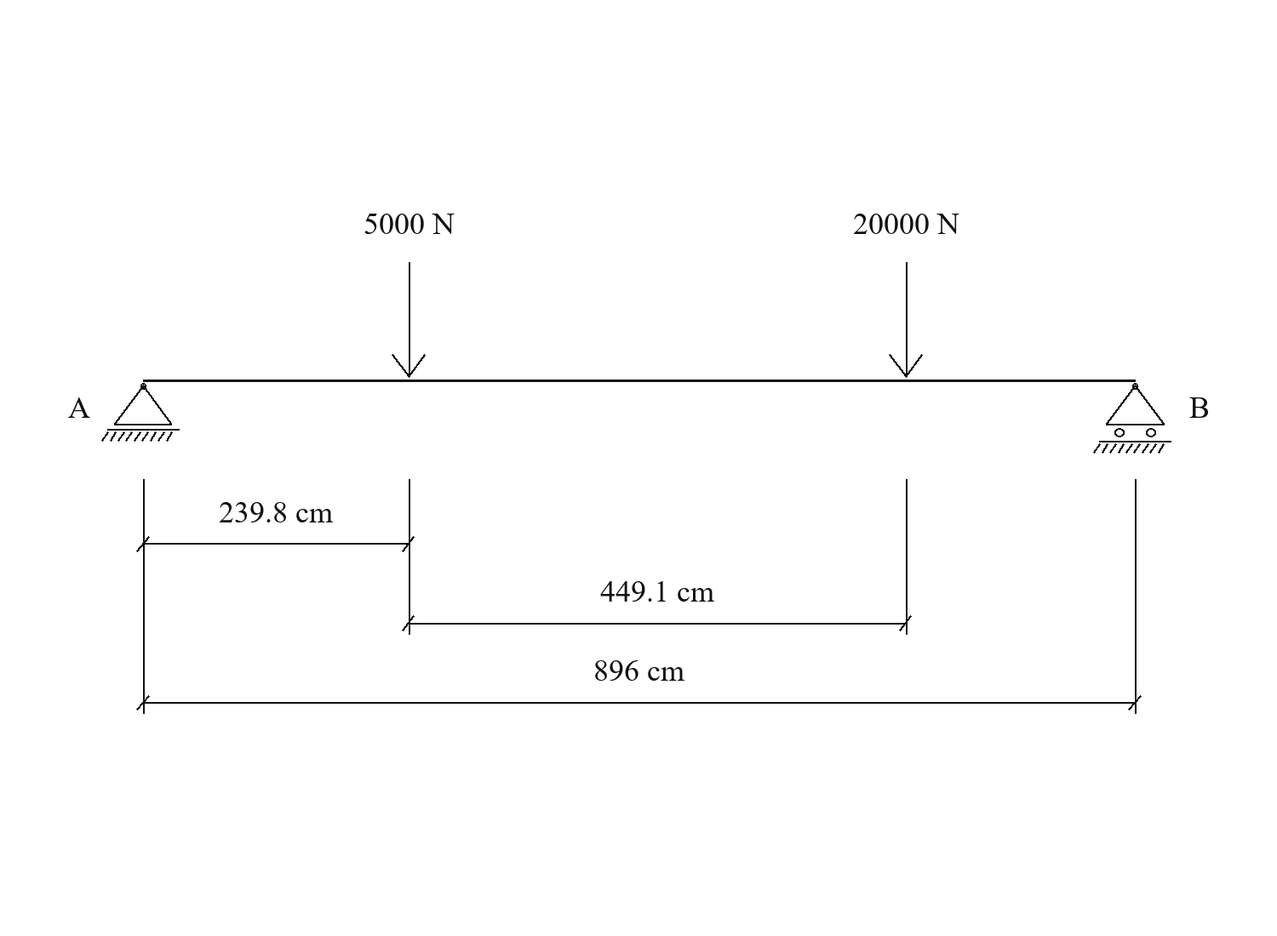pin_support: (101, 383, 180, 442)
point_load: (392, 262, 426, 378), (889, 262, 923, 378)
roller_support: (1093, 383, 1171, 454)
